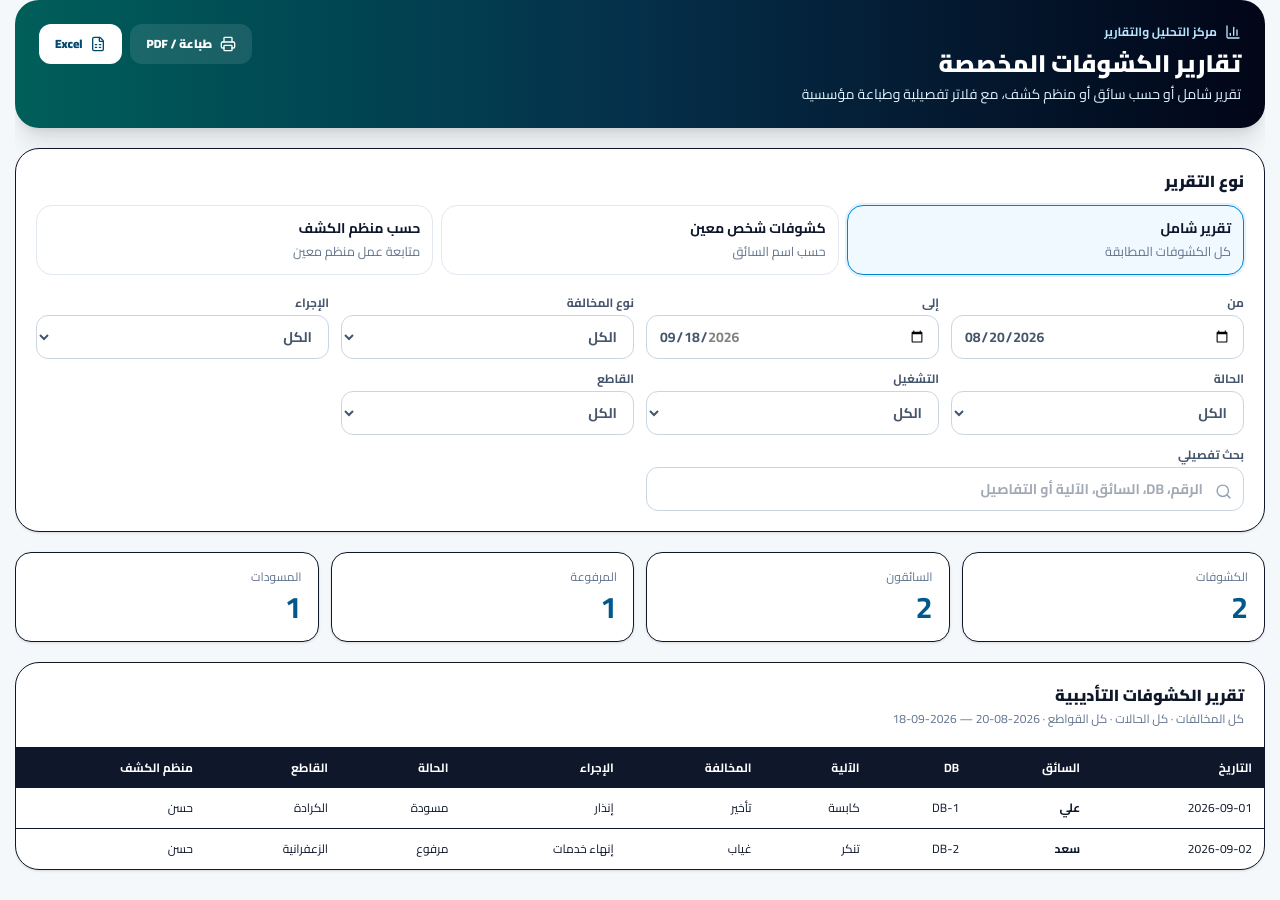
Test: تقارير الكشوفات المخصصة › يخصص التقرير حسب السائق والفترة والمخالفة
Click the button with test id "disclosure-report-mode-driver" at x=758, y=228, box [441,205,839,275]
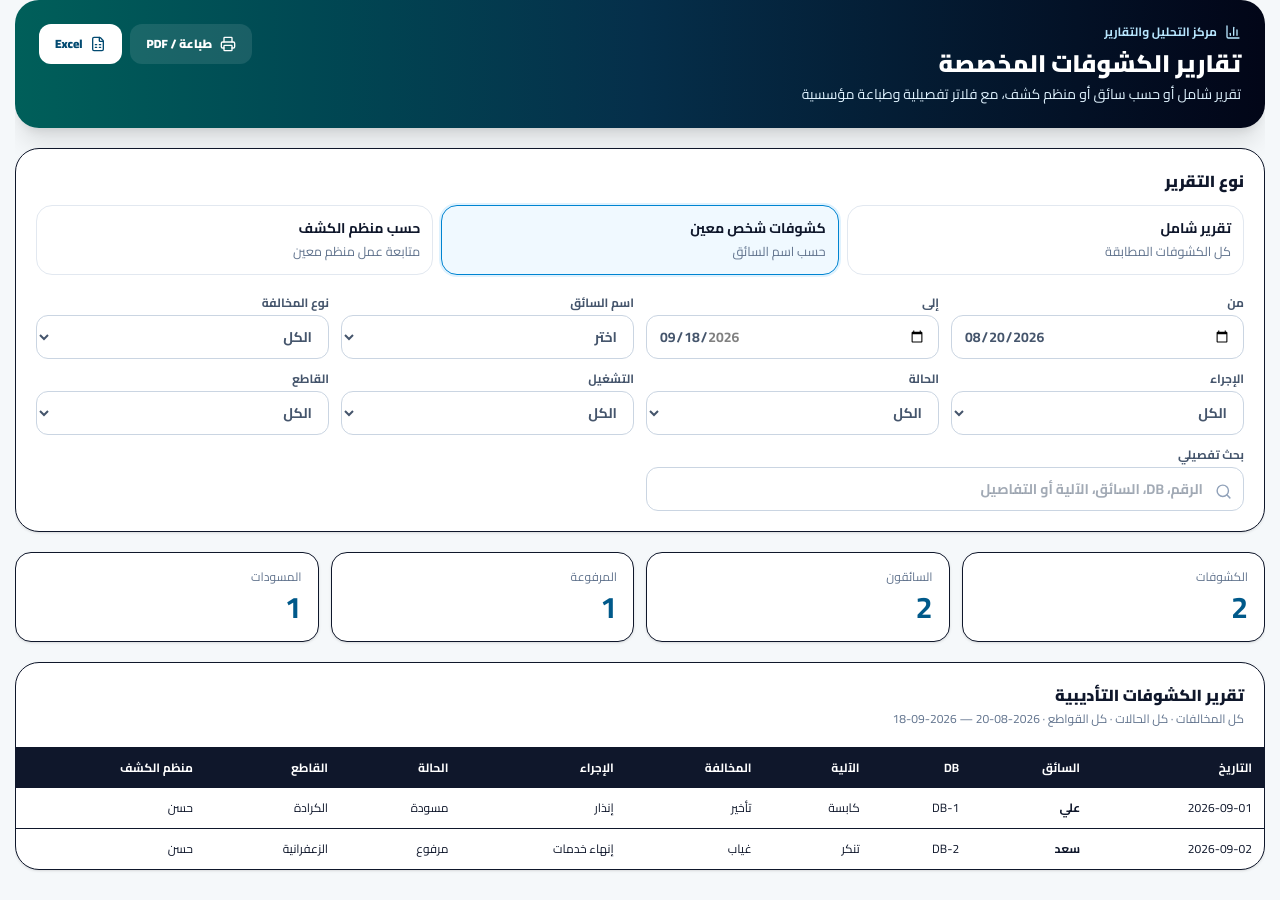
Select "علي" in the dropdown with test id "disclosure-report-person" at x=488, y=337, box [341,315,634,359]
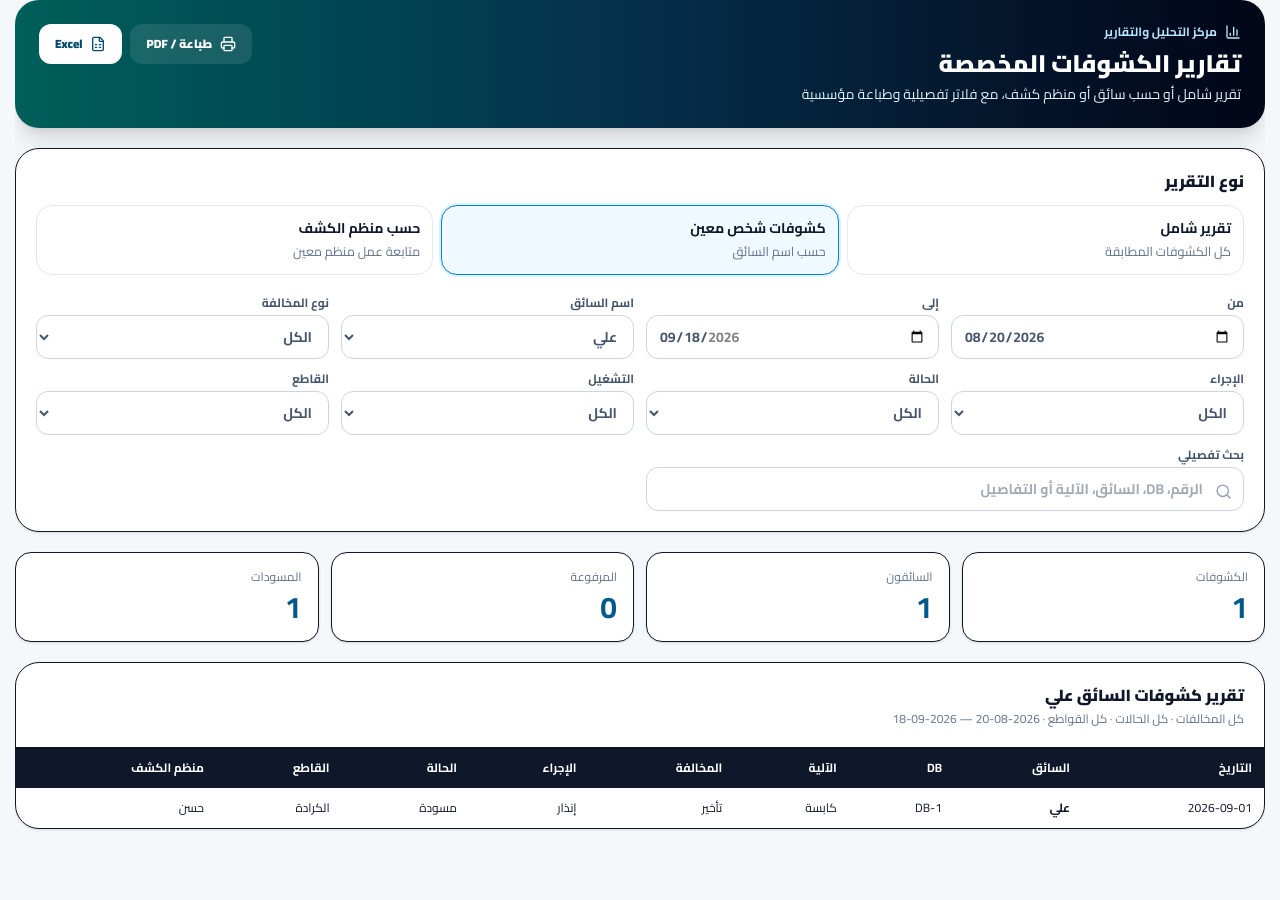
Check: the text "DB-1" is shown, box [849,788,954,828]
Check: the heading "تقرير كشوفات السائق علي" is shown, box [1045,680,1244,710]
Check: the text "DB-2" is gone
